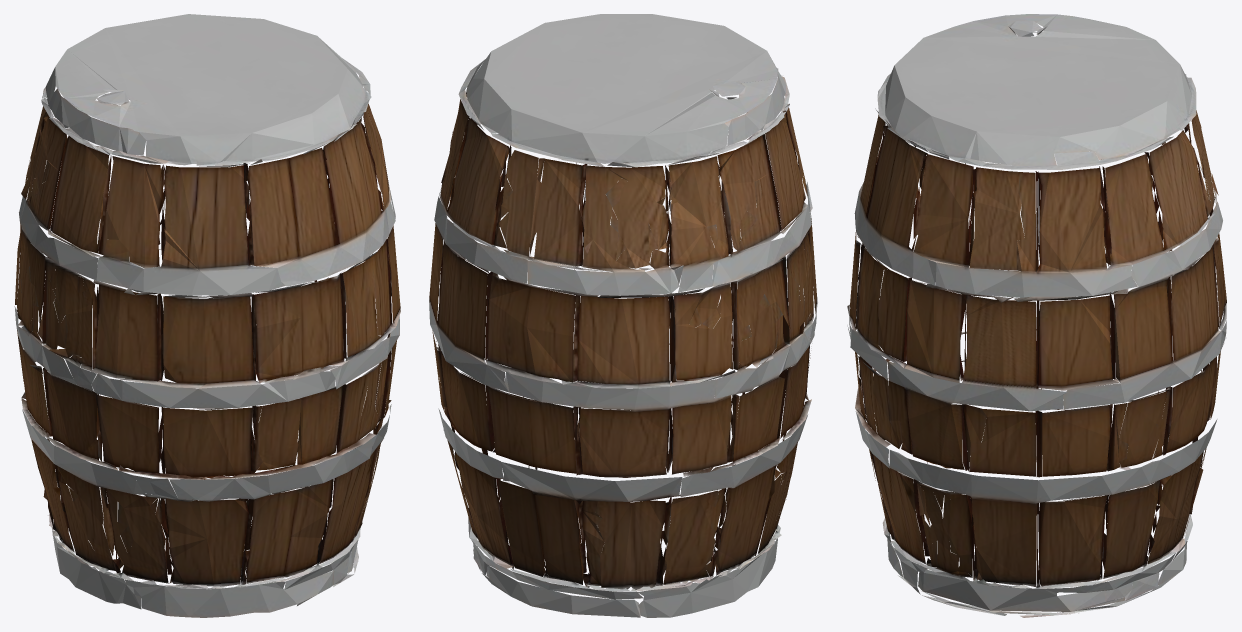
File: barrel.glb
3 views of the same model, side by side, from view 1: azimuth 30°, elevation 25°; view 2: azimuth 150°, elevation 25°; view 3: azimuth 270°, elevation 25° (orthographic).
Parts seen in each view (by area): view 1: textured_mesh.obj; view 2: textured_mesh.obj; view 3: textured_mesh.obj.
Boxes of the visible parts, x1,y1,x2,y2 form: textured_mesh.obj: (14, 14, 400, 617); textured_mesh.obj: (429, 14, 817, 617); textured_mesh.obj: (847, 14, 1226, 617).
Bounding box in the file's own units: 1.46 × 1.99 × 1.42.
1 material, 1 textured.
